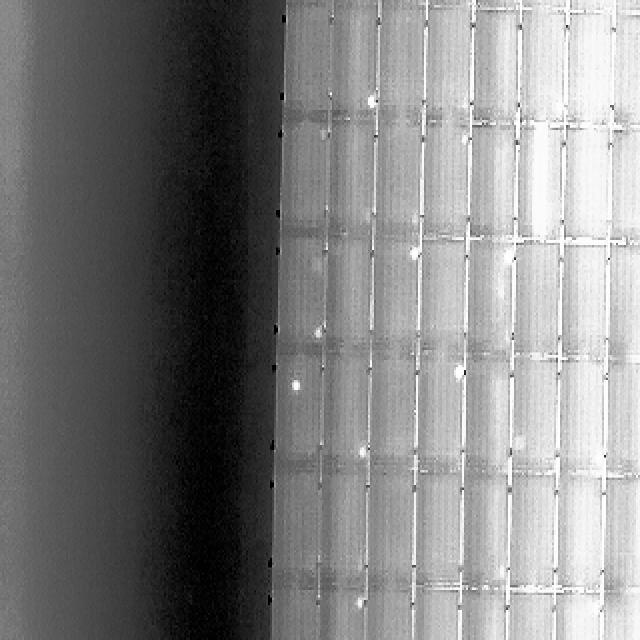Hotspots: (547, 86, 572, 125), (285, 371, 309, 406), (350, 594, 368, 618), (510, 426, 527, 449), (404, 246, 422, 266), (306, 327, 322, 348), (352, 440, 369, 459), (358, 91, 376, 108), (497, 251, 513, 269), (447, 362, 463, 379), (590, 453, 604, 470), (590, 598, 603, 616), (508, 0, 526, 8)
PV-modules: (367, 469, 418, 588), (280, 4, 330, 125), (374, 125, 425, 243), (326, 124, 376, 244), (415, 238, 466, 355), (317, 471, 368, 588), (328, 5, 379, 122), (269, 473, 319, 592), (378, 7, 428, 126), (413, 356, 463, 475), (462, 356, 512, 475), (460, 473, 511, 588), (422, 9, 472, 126), (371, 238, 421, 355), (472, 11, 522, 128), (511, 358, 561, 475), (368, 356, 419, 470), (411, 472, 462, 586), (517, 127, 567, 243), (323, 238, 373, 354), (560, 128, 610, 244), (271, 355, 321, 471), (557, 242, 606, 360), (512, 241, 562, 356), (518, 11, 568, 126), (553, 474, 603, 589), (319, 356, 370, 468), (276, 236, 324, 355), (464, 240, 514, 354), (468, 127, 518, 241), (563, 12, 613, 126), (509, 474, 559, 588), (420, 126, 469, 242), (555, 360, 604, 476), (278, 124, 327, 240), (600, 478, 640, 592), (602, 362, 640, 478), (604, 242, 640, 360), (606, 130, 640, 245), (610, 12, 640, 128), (269, 588, 317, 640), (366, 591, 415, 640), (318, 590, 366, 640), (461, 591, 509, 640), (411, 590, 458, 640), (552, 592, 600, 640), (509, 593, 558, 640), (600, 592, 640, 640), (564, 0, 614, 15), (520, 0, 570, 12), (472, 0, 522, 12), (612, 0, 640, 18), (424, 0, 474, 8), (380, 0, 430, 5), (288, 0, 336, 5), (330, 0, 380, 2)
